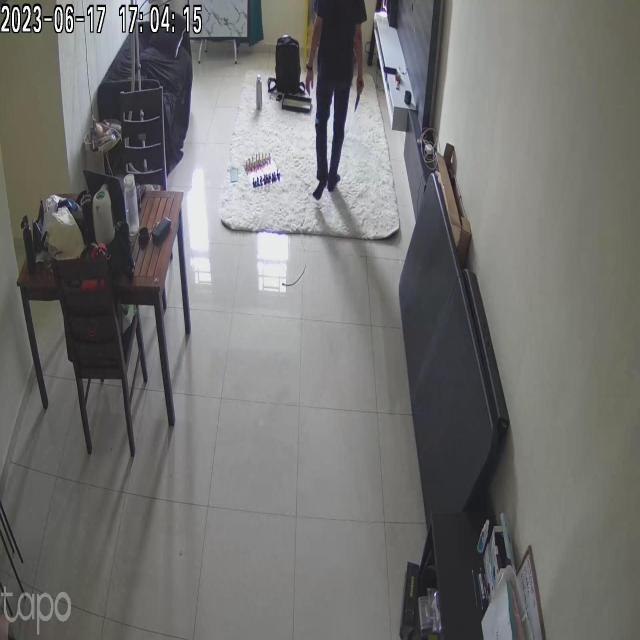Knife: (349, 79, 373, 114)
